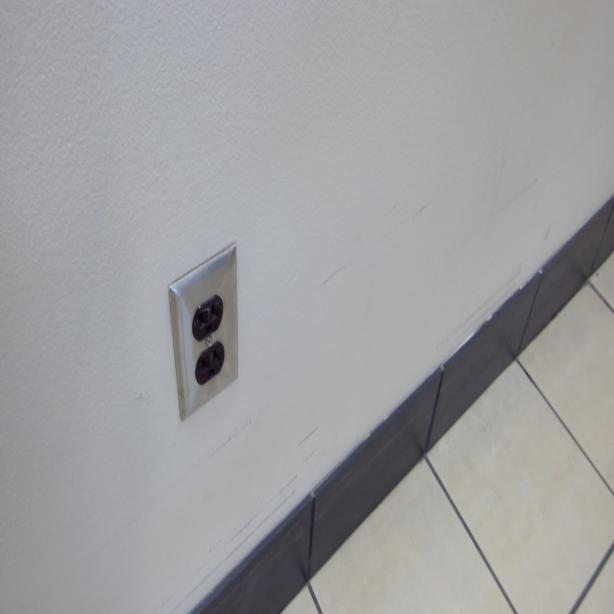typeb: (194, 299, 220, 335), (197, 346, 221, 380)
